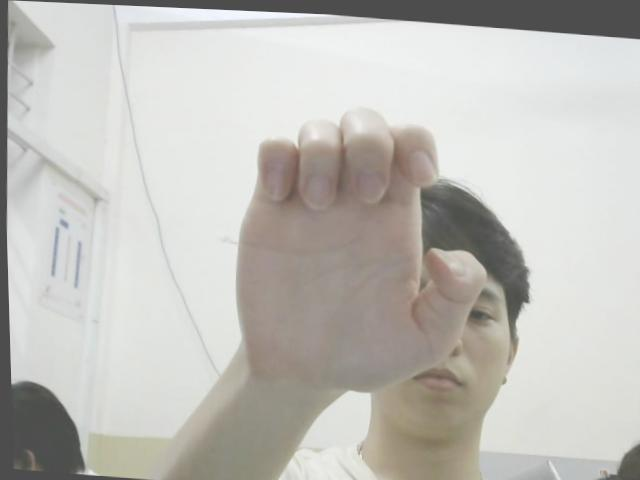E: (224, 92, 494, 398)
